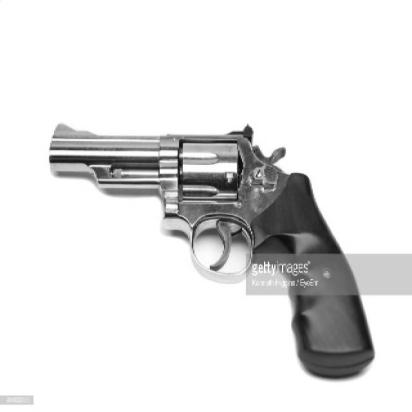Gun: (45, 119, 376, 381)
